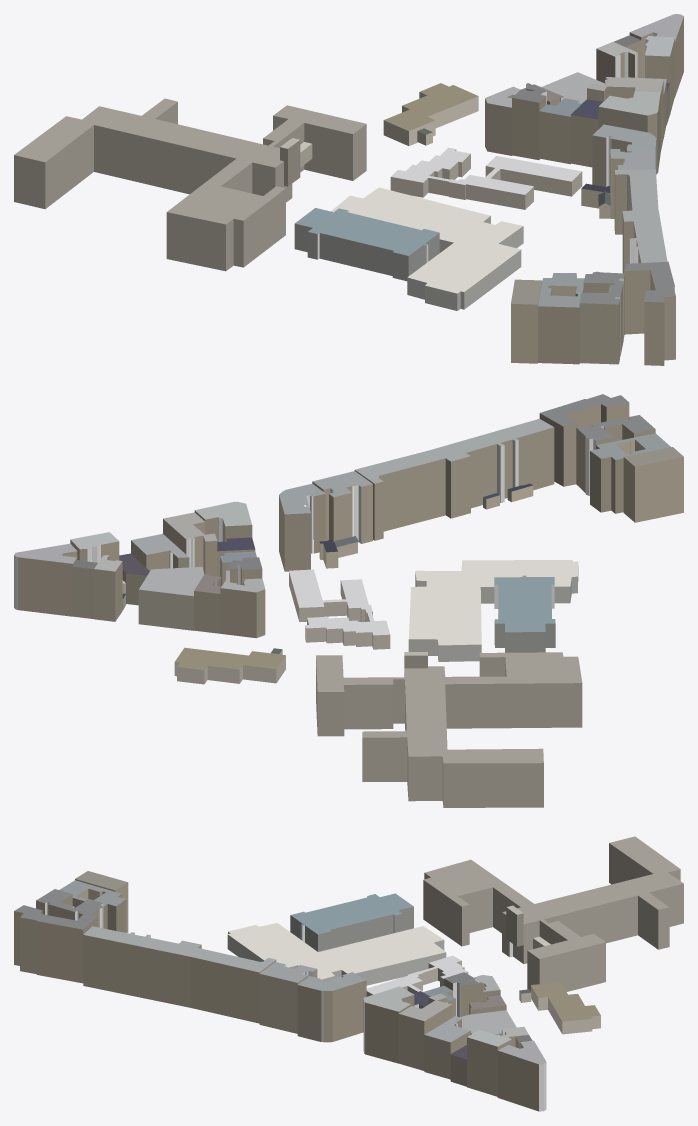
3 views of the same model, one above another, from view 1: azimuth 30°, elevation 25°; view 2: azimuth 150°, elevation 25°; view 3: azimuth 270°, elevation 25° (orthographic). The views are drawn at different scales.
Parts seen in each view (by area): view 1: tuile; view 2: tuile; view 3: tuile.
Boxes of the visible parts, x1,y1,x2,y2 form: tuile: (14, 14, 683, 365); tuile: (14, 394, 683, 807); tuile: (14, 836, 683, 1111).
Bounding box in the file's own units: 288 × 43.79 × 321.
